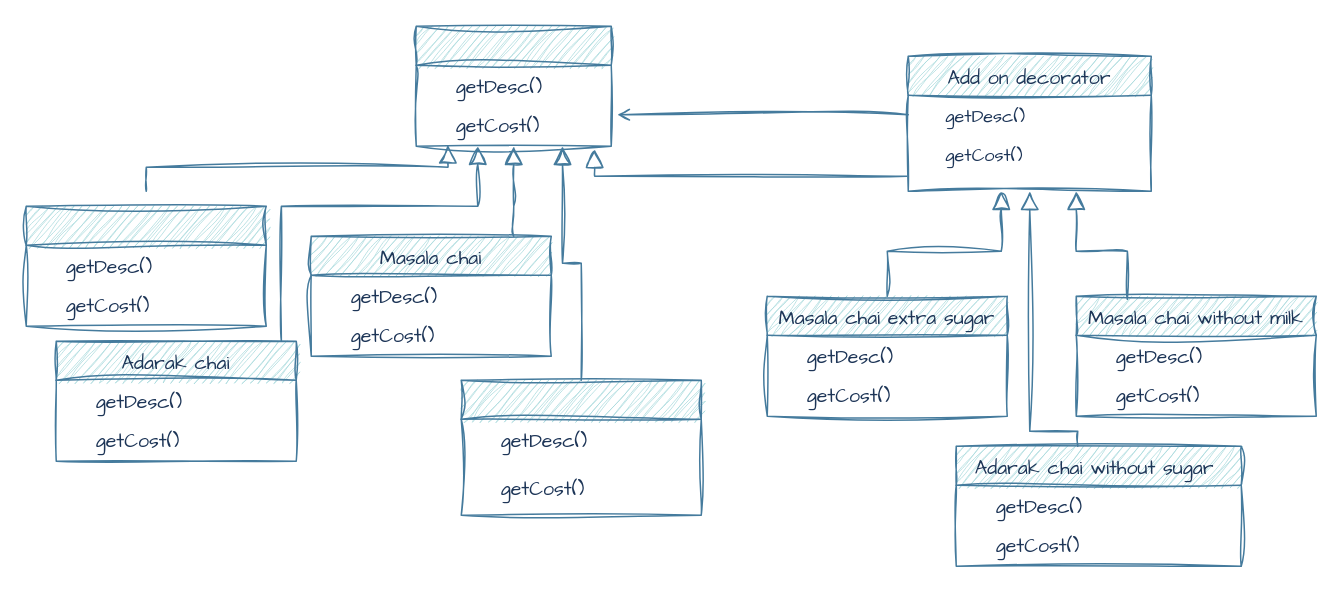
The diagram is 1341 pixels wide and 591 high, and some of its shapes have lost their labels. Each missing label, with the box of its shape:
Amartulya chai: (460, 379, 701, 515)
Chai: (415, 25, 611, 146)
Tandori chai: (25, 205, 266, 326)
